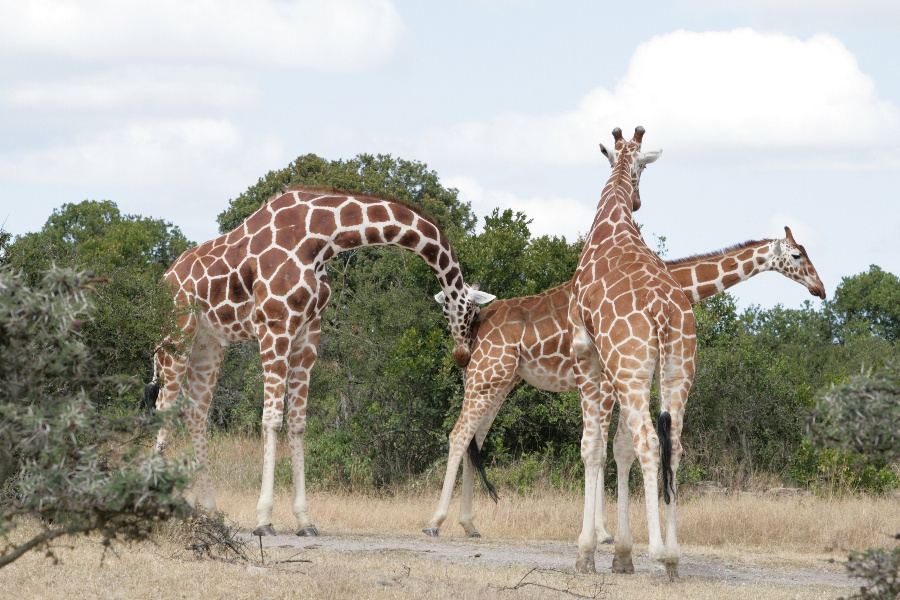giraffe: (419, 217, 830, 539), (132, 173, 496, 527), (564, 112, 703, 592)
